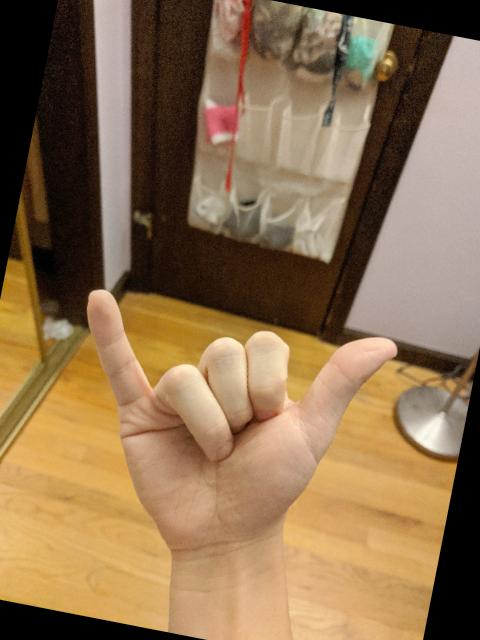Y: (39, 274, 406, 585)
